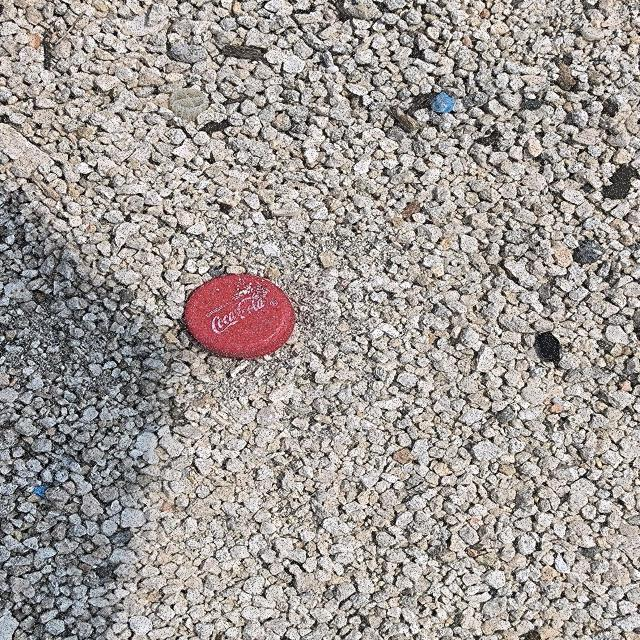plastic_waste: (185, 274, 298, 361)
